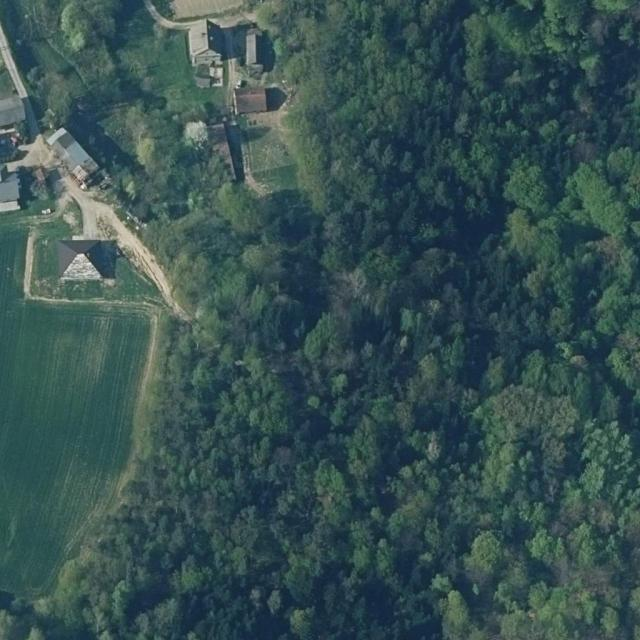agricultural_land: (0, 229, 150, 595), (171, 0, 244, 19)
building: (43, 125, 101, 186), (56, 238, 118, 278), (206, 122, 234, 178), (61, 253, 103, 281), (185, 20, 210, 64), (234, 86, 267, 114), (0, 95, 28, 128), (195, 64, 224, 88), (208, 20, 223, 55), (192, 50, 223, 66), (0, 180, 19, 203), (246, 34, 256, 64)
unmetalled_road: (45, 168, 198, 330), (6, 96, 69, 181), (137, 0, 200, 41), (0, 24, 29, 101), (21, 229, 37, 298), (210, 9, 257, 30)
